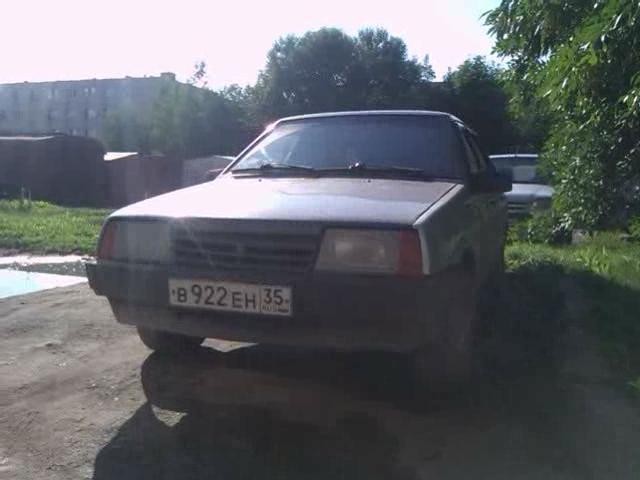license-plateSW: (166, 278, 291, 318)
